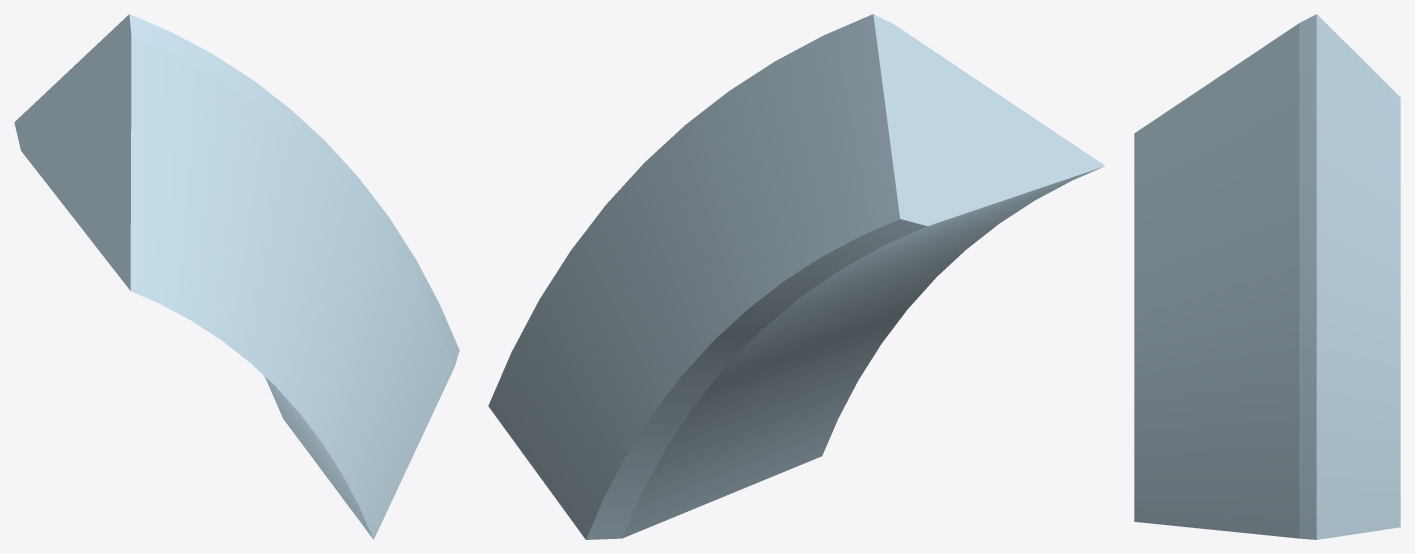
The model's file is Sub_7_Cell_1_1.gltf.
3 views of the same model, side by side, from view 1: azimuth 30°, elevation 25°; view 2: azimuth 150°, elevation 25°; view 3: azimuth 270°, elevation 25° (orthographic). The views are drawn at different scales.
Parts seen in each view (by area): view 1: Sub_7_Cell_1_1; view 2: Sub_7_Cell_1_1; view 3: Sub_7_Cell_1_1.
Part boxes in pixels (<box>): Sub_7_Cell_1_1: <box>14,14,459,539</box>; Sub_7_Cell_1_1: <box>488,14,1104,539</box>; Sub_7_Cell_1_1: <box>1134,14,1400,539</box>.
Bounding box in the file's own units: 0.0984 × 0.1068 × 0.0581.
